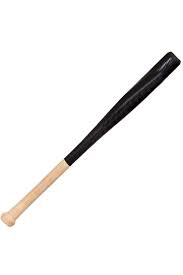baseball bat: (1, 50, 181, 227)
